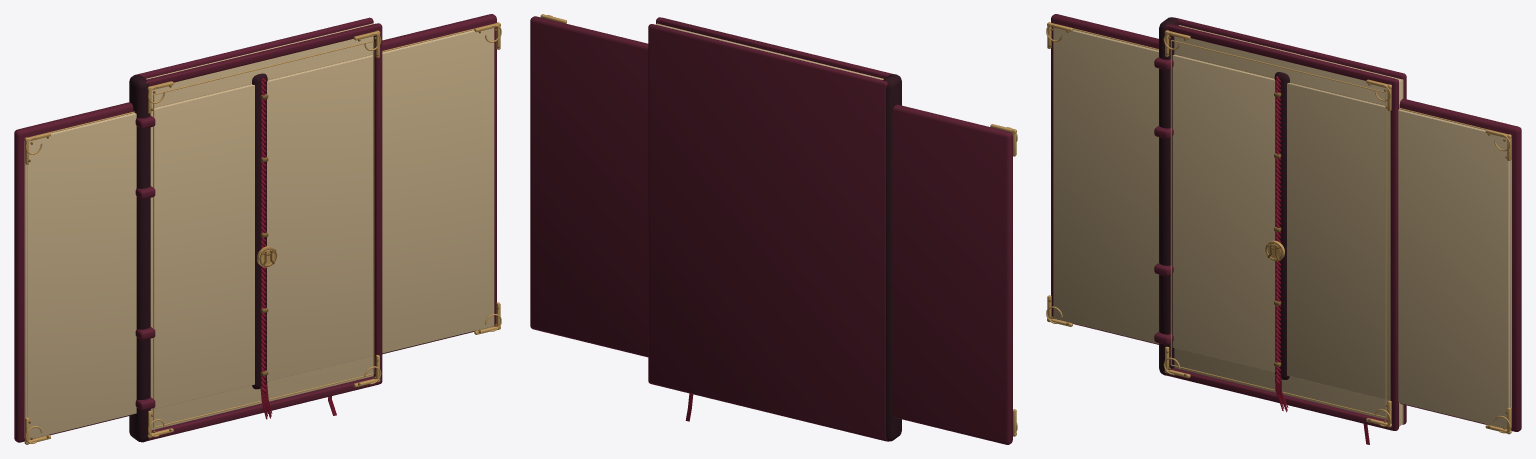
Rendered from book_frame.glb.
3 renders of one model, left to right at view 1: azimuth 30°, elevation 25°; view 2: azimuth 150°, elevation 25°; view 3: azimuth 330°, elevation 25°, orthographic. The views are drawn at different scales.
Parts seen in each view (by area): view 1: OpenBook_Surface, ClosedBook_Surface, CoverGeometry_Surface; view 2: ClosedBook_Surface, OpenBook_Surface, CoverGeometry_Surface; view 3: OpenBook_Surface, ClosedBook_Surface, CoverGeometry_Surface.
Boxes of the visible parts, x1=… form: OpenBook_Surface: x1=14, y1=14, x2=501, y2=444; ClosedBook_Surface: x1=129, y1=17, x2=373, y2=442; CoverGeometry_Surface: x1=146, y1=23, x2=382, y2=441; ClosedBook_Surface: x1=648, y1=23, x2=901, y2=441; OpenBook_Surface: x1=530, y1=14, x2=1017, y2=444; CoverGeometry_Surface: x1=656, y1=17, x2=893, y2=78; OpenBook_Surface: x1=1046, y1=14, x2=1521, y2=434; ClosedBook_Surface: x1=1154, y1=17, x2=1406, y2=444; CoverGeometry_Surface: x1=1163, y1=24, x2=1398, y2=430.
Size of the model in its own units: 2 by 1.55 by 0.1295.
